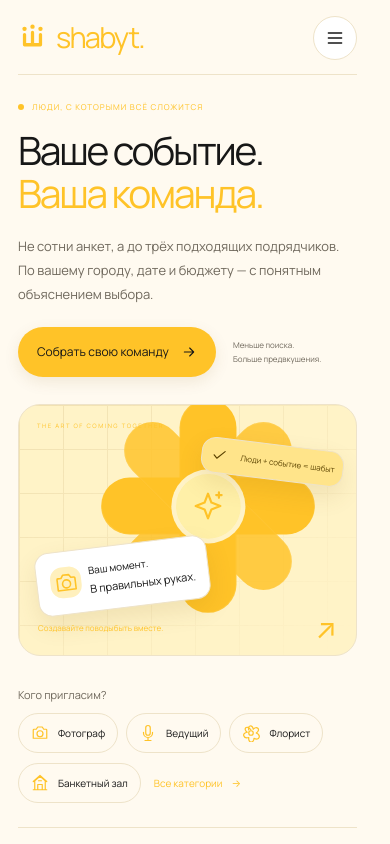
Test case: navigation › opens and closes the mobile menu with selection and Escape
Click the button named "Открыть меню" at (335,38), box [313,16,357,60]
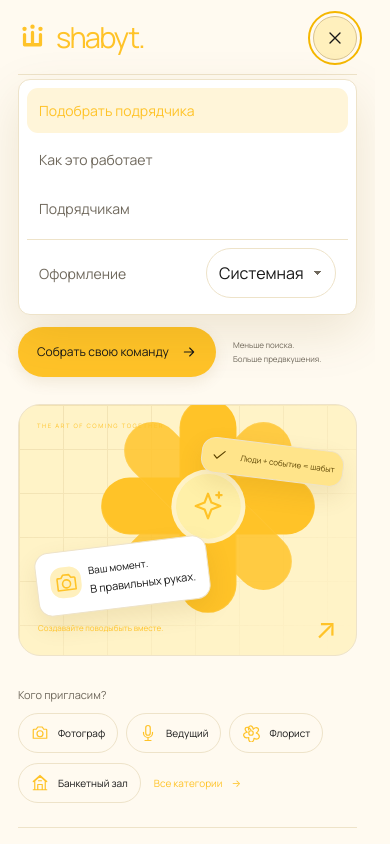
Result: the button named "Закрыть меню" is expanded at [313,16,357,60]
Click the link "Как это работает" at (96,160), box [39,150,152,169]
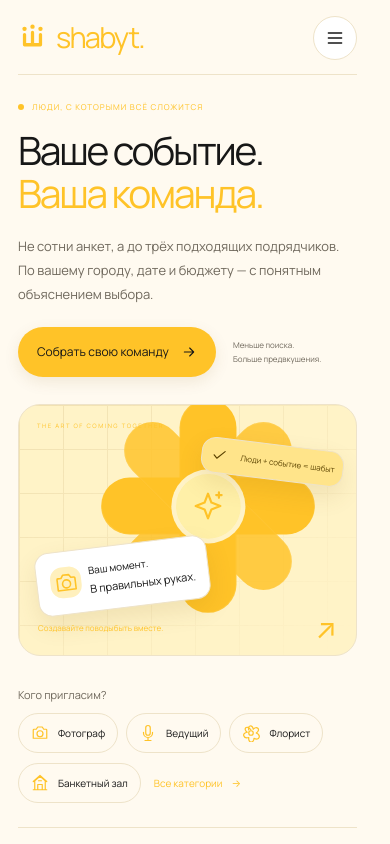
Result: the button named "Закрыть меню" is collapsed
Click the button named "Закрыть меню" at (335,38), box [313,16,357,60]
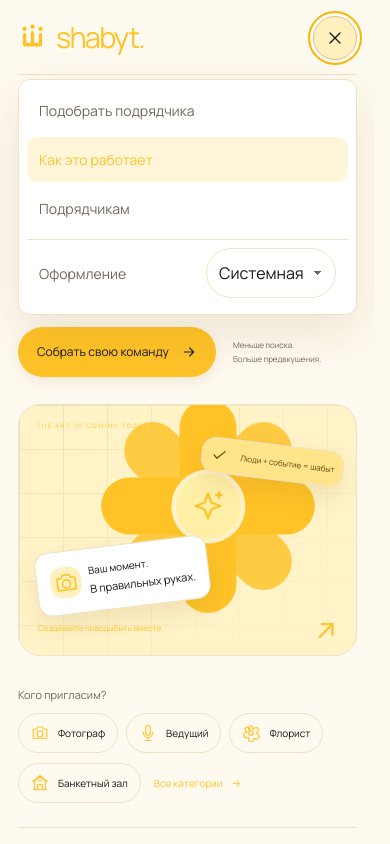
Press Escape
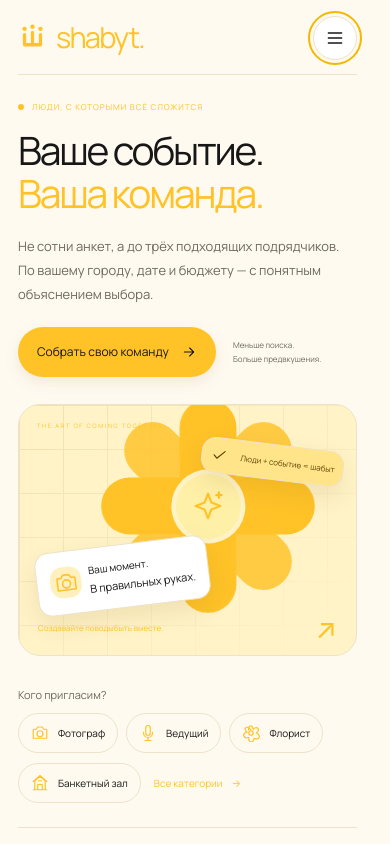
Result: the button named "Закрыть меню" is collapsed at [313,16,357,60]
